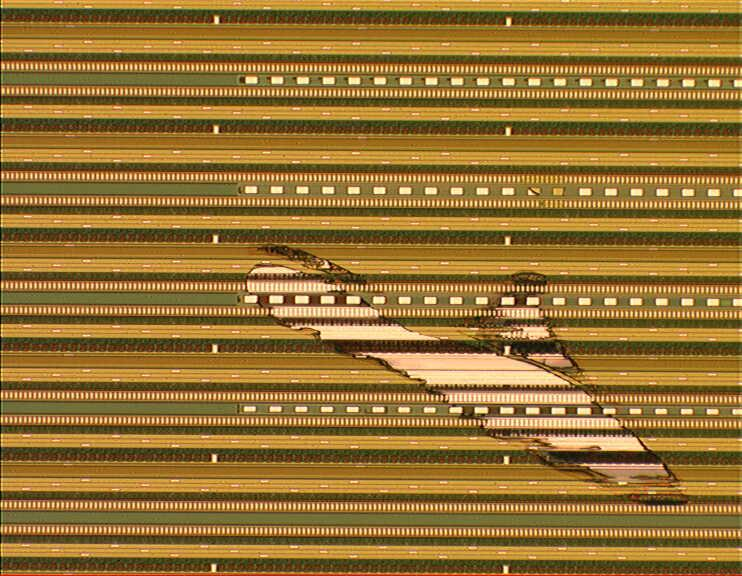COATING BAD: (232, 234, 703, 518)
